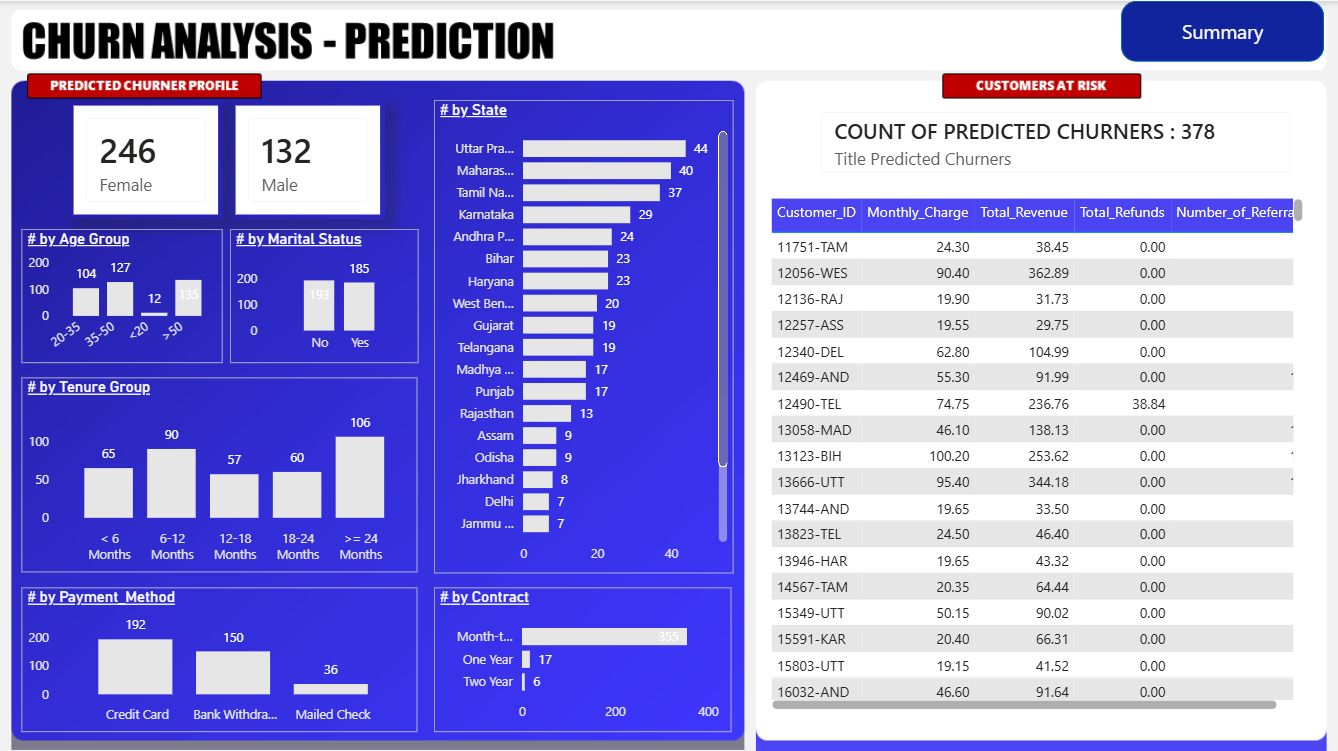

This screenshot's page, from the dashboard's own definition file:
{"tool":"powerbi","page":{"name":"Churn Prediction","canvas":[1280,720],"ordinal":2},"visuals":[{"type":"tableEx","fields":{"Values":["Predictions.Customer_ID","Predictions.Monthly_Charge","Predictions.Total_Revenue","Predictions.Total_Refunds","Predictions.Number_of_Referrals"]},"box":[732,184,518,498],"z":0},{"type":"cardVisual","fields":{"Data":["tbl_Measures.Title Predicted Churners"]},"box":[767.5,89.1,482.5,92],"z":1000},{"type":"cardVisual","fields":{"Data":["tbl_Measures.Count Predicted Churner"]},"box":[66,94,148,114],"z":2000},{"type":"cardVisual","fields":{"Data":["tbl_Measures.Count Predicted Churner"]},"box":[220,94,148,114],"z":3000},{"type":"clusteredColumnChart","fields":{"Category":["mapping_AgeGrp.Age Group"],"Y":["CountNonNull(Predictions.Customer_ID)"]},"box":[22,218,192,128],"z":4000},{"type":"clusteredColumnChart","fields":{"Category":["Predictions.Married"],"Y":["CountNonNull(Predictions.Customer_ID)"]},"box":[220,218,180,128],"z":5000},{"type":"clusteredColumnChart","fields":{"Category":["mapping_TenureGrp.Tenure Group"],"Y":["CountNonNull(Predictions.Customer_ID)"]},"box":[22,360,378,186],"z":6000},{"type":"clusteredColumnChart","fields":{"Category":["Predictions.Payment_Method"],"Y":["CountNonNull(Predictions.Customer_ID)"]},"box":[22,560,378,138],"z":7000},{"type":"clusteredBarChart","fields":{"Category":["Predictions.Contract"],"Y":["CountNonNull(Predictions.Customer_ID)"]},"box":[416,560,284,138],"z":8000},{"type":"clusteredBarChart","fields":{"Category":["Predictions.State"],"Y":["CountNonNull(Predictions.Customer_ID)"]},"box":[416,94,286,452],"z":9000},{"type":"shape","box":[1072,0,194,58],"z":9001}]}

Visuals, with their boxes in screenshot pixels (x1, y1, x2, y2), scaled from the page's 1280x720 canvas onto the 1338x751 screenshot:
tableEx - Predictions.Customer_ID x Predictions.Monthly_Charge: [765,192,1307,711]
cardVisual - tbl_Measures.Title Predicted Churners: [802,93,1307,189]
cardVisual - tbl_Measures.Count Predicted Churner: [69,98,224,217]
cardVisual - tbl_Measures.Count Predicted Churner: [230,98,385,217]
clusteredColumnChart - mapping_AgeGrp.Age Group x CountNonNull(Predictions.Customer_ID): [23,227,224,361]
clusteredColumnChart - Predictions.Married x CountNonNull(Predictions.Customer_ID): [230,227,418,361]
clusteredColumnChart - mapping_TenureGrp.Tenure Group x CountNonNull(Predictions.Customer_ID): [23,376,418,570]
clusteredColumnChart - Predictions.Payment_Method x CountNonNull(Predictions.Customer_ID): [23,584,418,728]
clusteredBarChart - Predictions.Contract x CountNonNull(Predictions.Customer_ID): [435,584,732,728]
clusteredBarChart - Predictions.State x CountNonNull(Predictions.Customer_ID): [435,98,734,570]
shape: [1121,0,1323,60]
